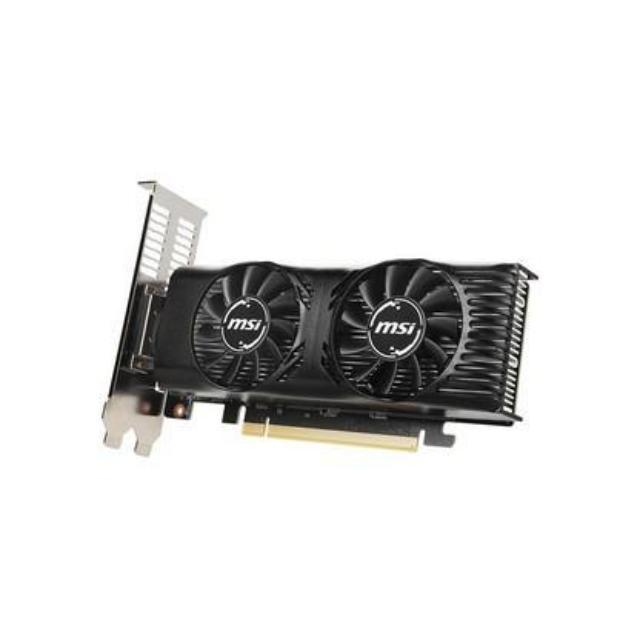GPU: (110, 248, 542, 460)
